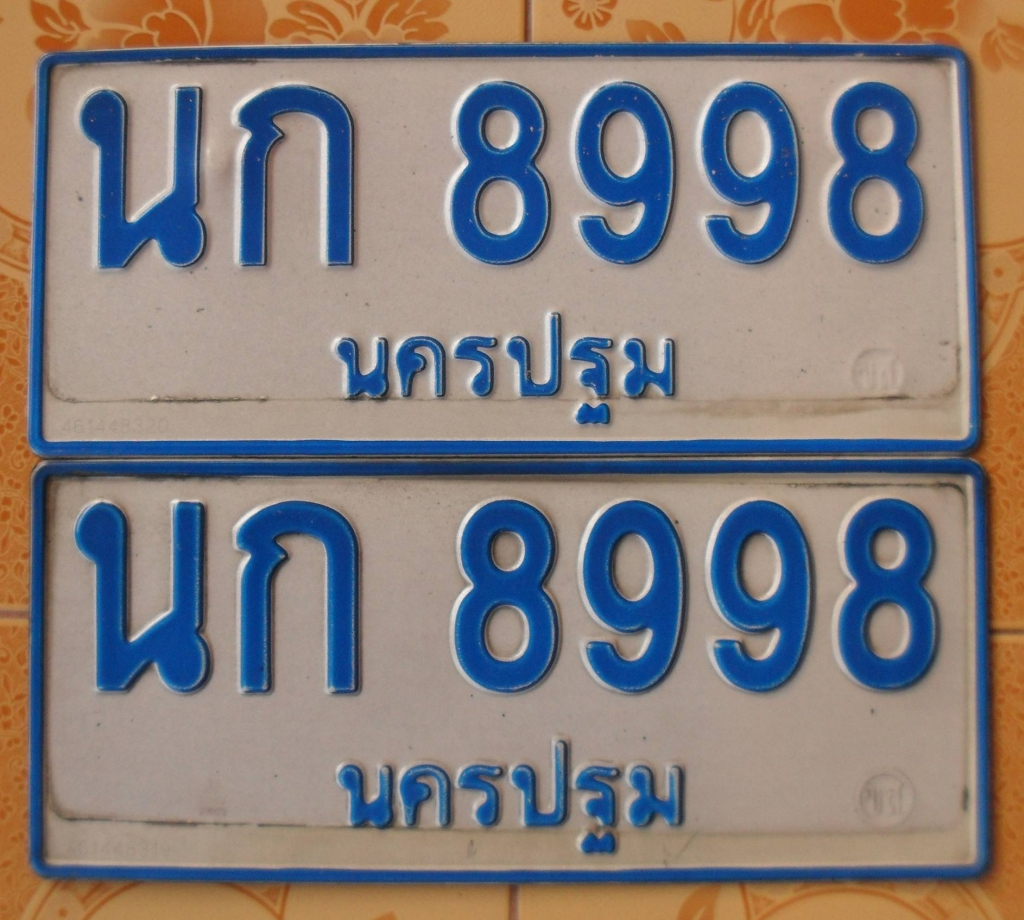Non-Bangkok: (330, 722, 727, 873), (296, 321, 707, 433)
